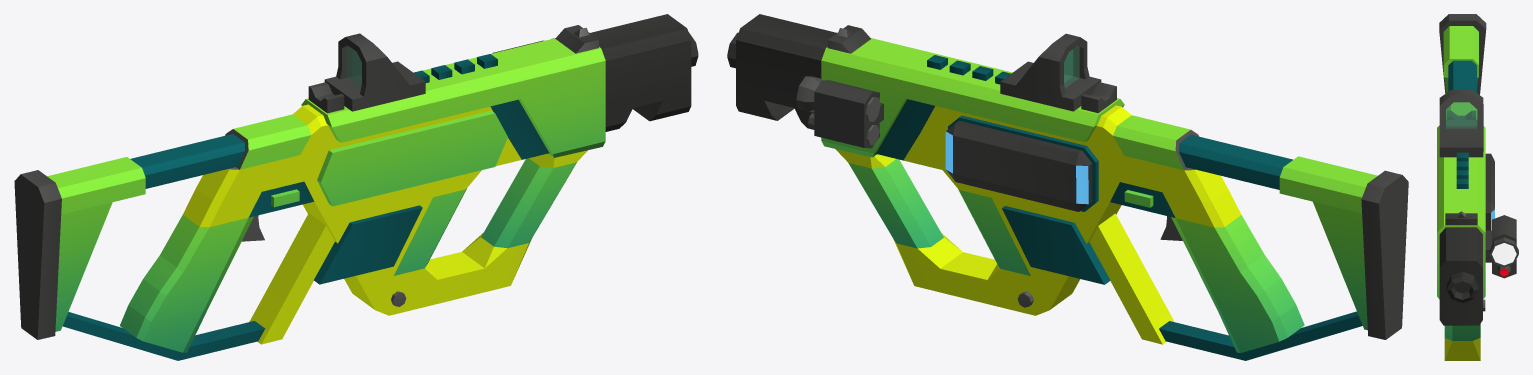
The model's file is SMG_A_mesh.fbx.
3 renders of one model, left to right at view 1: azimuth 30°, elevation 25°; view 2: azimuth 150°, elevation 25°; view 3: azimuth 270°, elevation 25°, orthographic. The views are drawn at different scales.
Parts seen in each view (by area): view 1: SMG_A_mesh, SMG_Silencer_mesh, ReflexB_mesh, SMGIronSight_mesh; view 2: SMG_A_mesh, Mag_SMG_mesh, SMG_Silencer_mesh, MediumLaserCombo_mesh, ReflexB_mesh, SMGIronSight_mesh; view 3: SMG_A_mesh, SMG_Silencer_mesh, ReflexB_mesh, MediumLaserCombo_mesh, Mag_SMG_mesh, SMGIronSight_mesh.
Boxes of the visible parts, x1,y1,x2,y2 form: SMG_A_mesh: (14,38,605,360); SMG_Silencer_mesh: (590,14,698,131); ReflexB_mesh: (324,33,425,111); SMGIronSight_mesh: (308,25,598,113); SMG_A_mesh: (821,38,1408,360); Mag_SMG_mesh: (945,120,1092,211); SMG_Silencer_mesh: (727,14,836,129); MediumLaserCombo_mesh: (796,76,883,148); ReflexB_mesh: (1000,33,1101,111); SMGIronSight_mesh: (827,25,1116,113); SMG_A_mesh: (1437,14,1486,360); SMG_Silencer_mesh: (1439,227,1482,325); ReflexB_mesh: (1439,90,1483,157); MediumLaserCombo_mesh: (1485,215,1518,278); Mag_SMG_mesh: (1485,153,1494,230); SMGIronSight_mesh: (1445,111,1477,225).
Size of the model in its own units: 52.95 by 20.84 by 7.21.
Materials: 3 (1 with a texture image).
